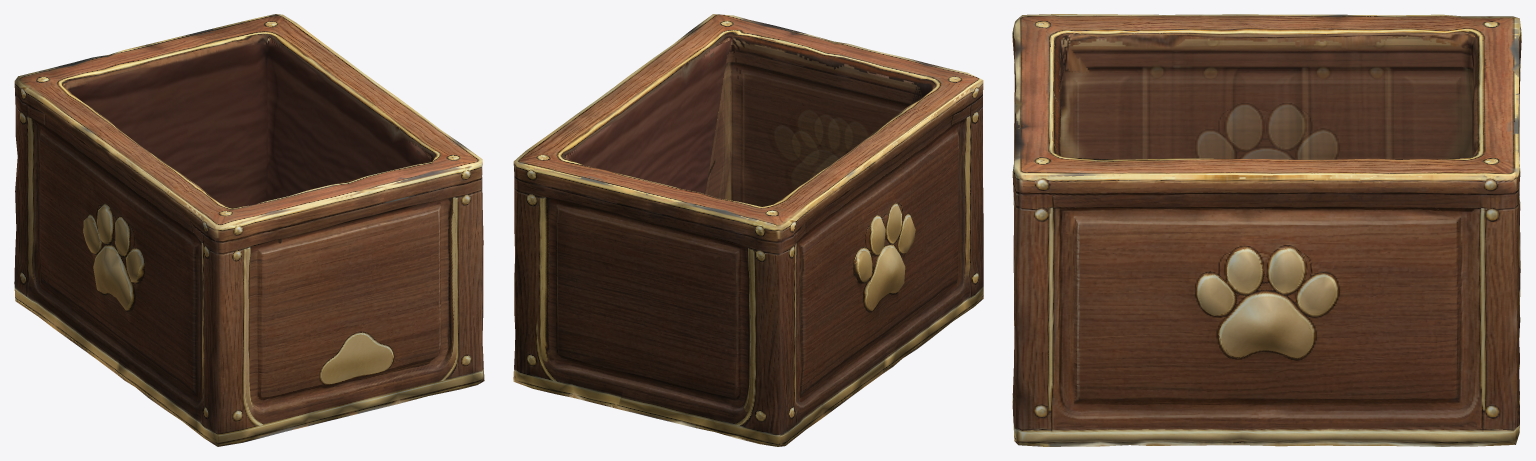
Rendered from P_CrateWalnut.fbx.
3 renders of one model, left to right at view 1: azimuth 30°, elevation 25°; view 2: azimuth 150°, elevation 25°; view 3: azimuth 270°, elevation 25°, orthographic. The views are drawn at different scales.
Visible parts, largest first — view 1: texture_mapping; view 2: texture_mapping; view 3: texture_mapping.
Boxes of the visible parts, x1,y1,x2,y2 form: texture_mapping: [14, 14, 484, 446]; texture_mapping: [513, 14, 983, 446]; texture_mapping: [1012, 14, 1521, 446].
Size of the model in its own units: 0.7933 by 0.9942 by 0.5985.
Materials: 1 (1 with a texture image).
